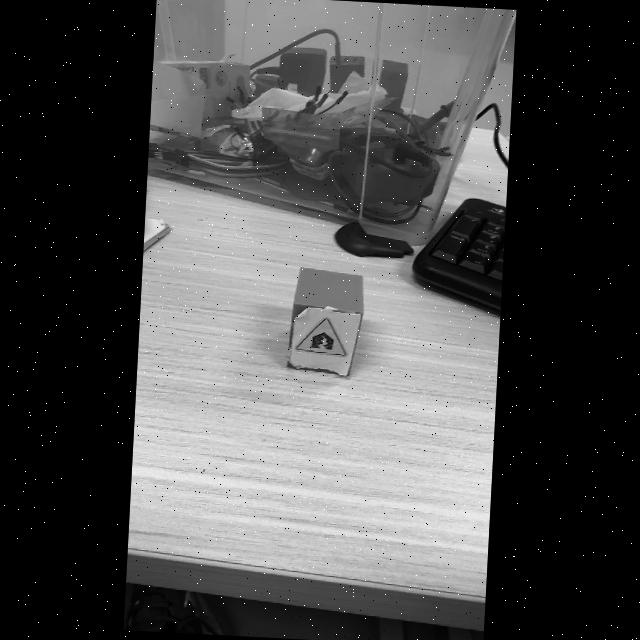Earthquake: (295, 319, 346, 357)
